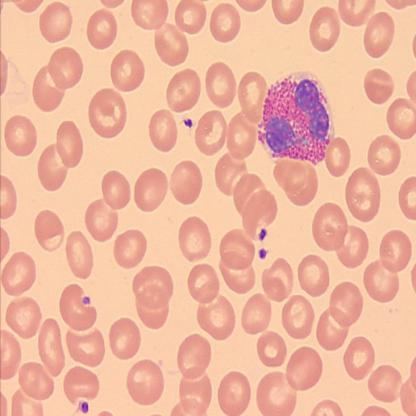Eosinophil: (258, 70, 334, 163)
